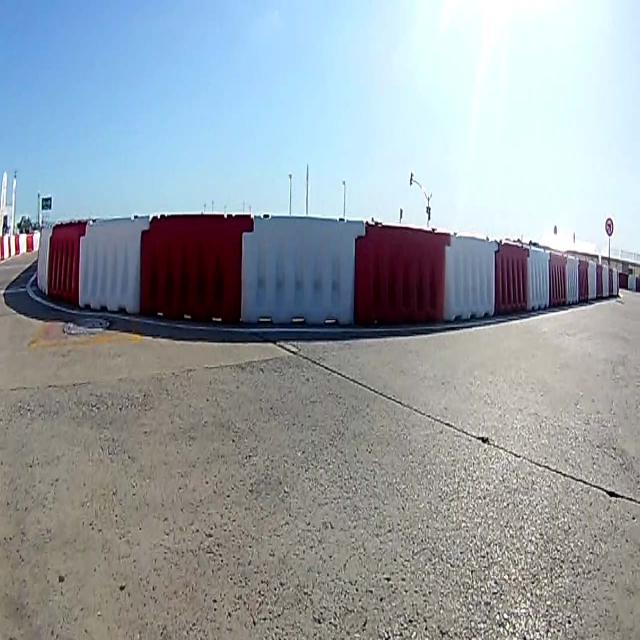soladonulmez: (606, 215, 615, 237)
